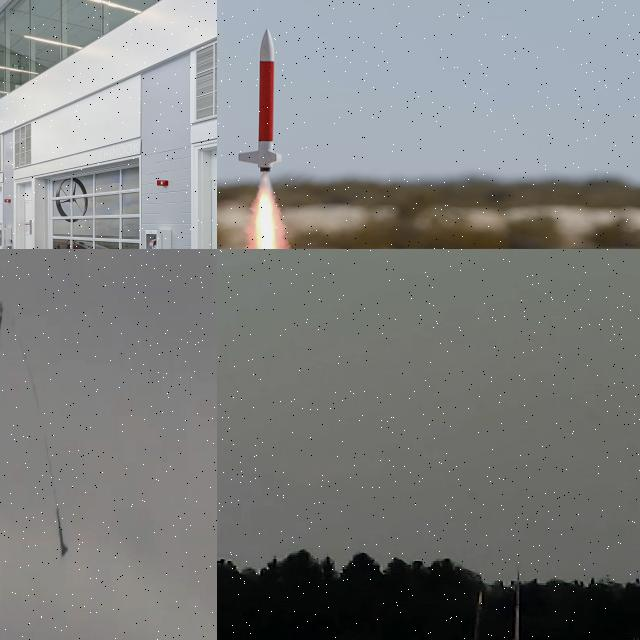Rocket: (237, 28, 284, 173), (464, 590, 485, 640), (57, 508, 68, 556)
